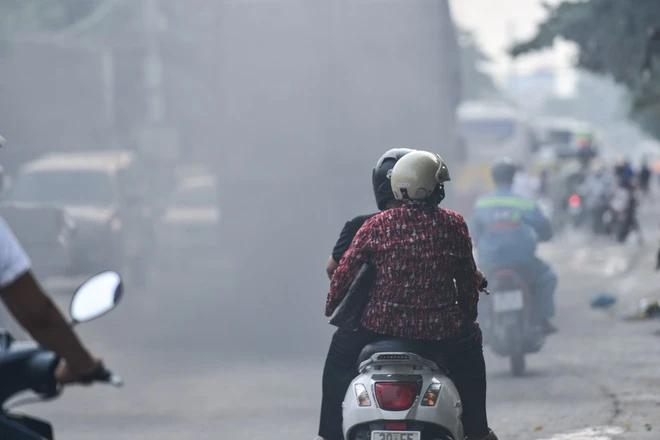motorcycle: (344, 332, 466, 438), (490, 264, 538, 376)
